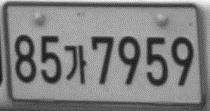5: (145, 36, 168, 86), (40, 34, 62, 83)
7: (91, 35, 114, 84)
8: (13, 34, 36, 82)
9: (170, 35, 194, 86), (118, 35, 141, 85)
가: (63, 44, 87, 84)
